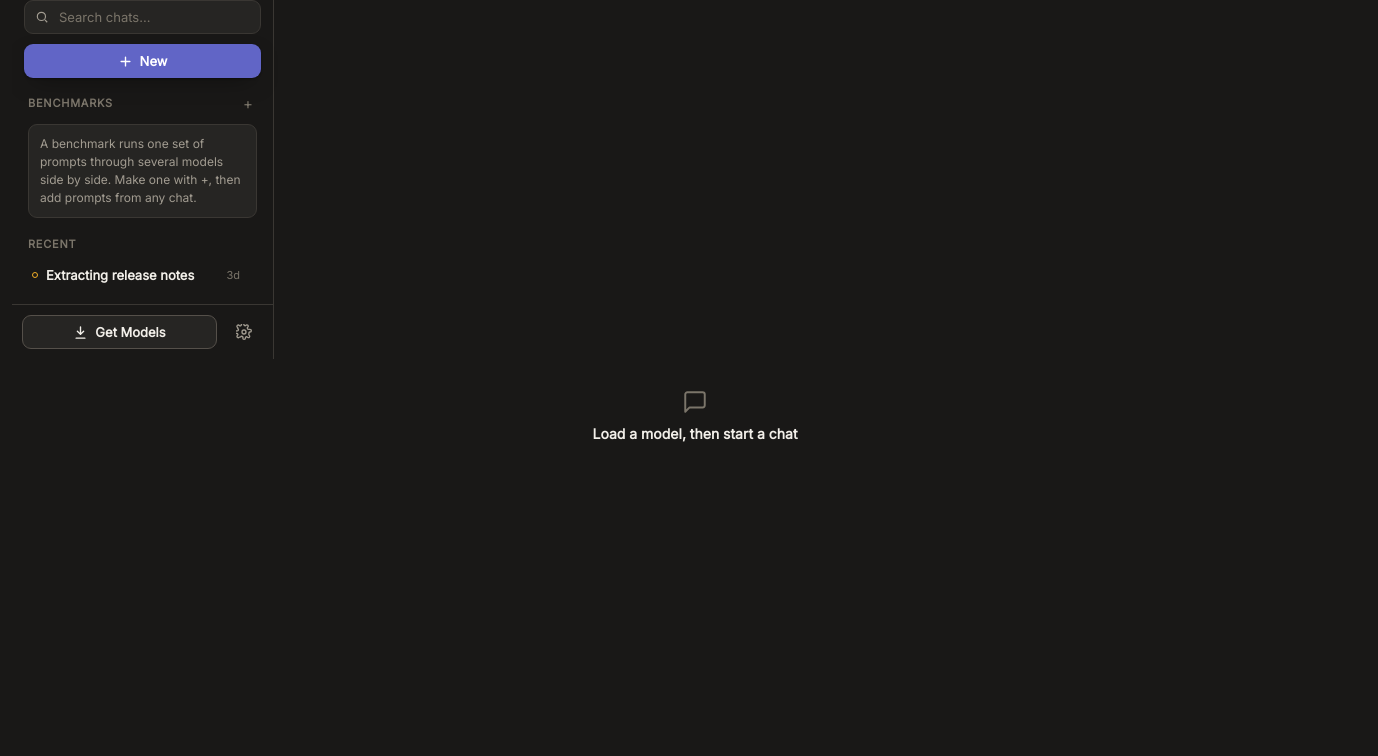
Test: the pane and its pill › opens off, and opens the pane on the starter schema
Click the button "New" at x=142, y=61, box [24,44,261,78]
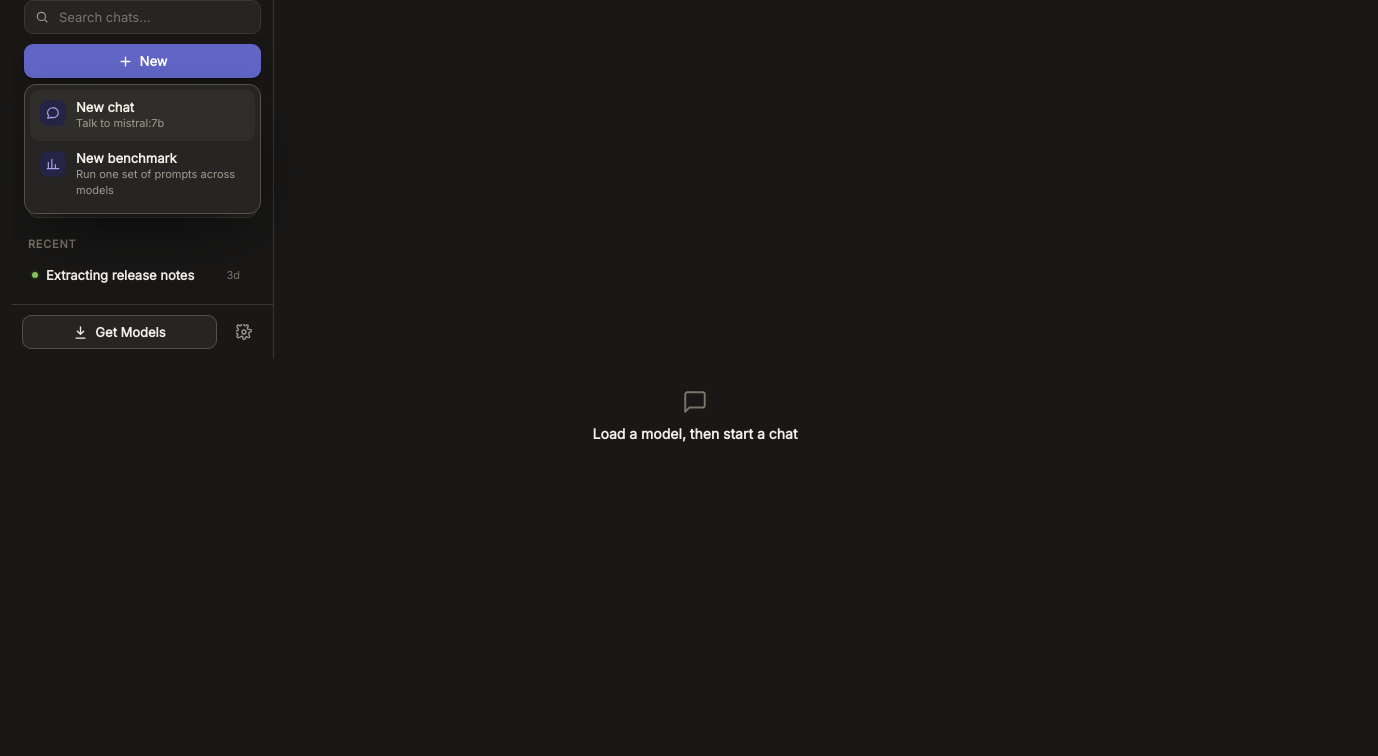
Result: the text "Talk to mistral:7b" is shown at [76,116,164,130]
Click the button "New" at x=142, y=61, box [24,44,261,78]
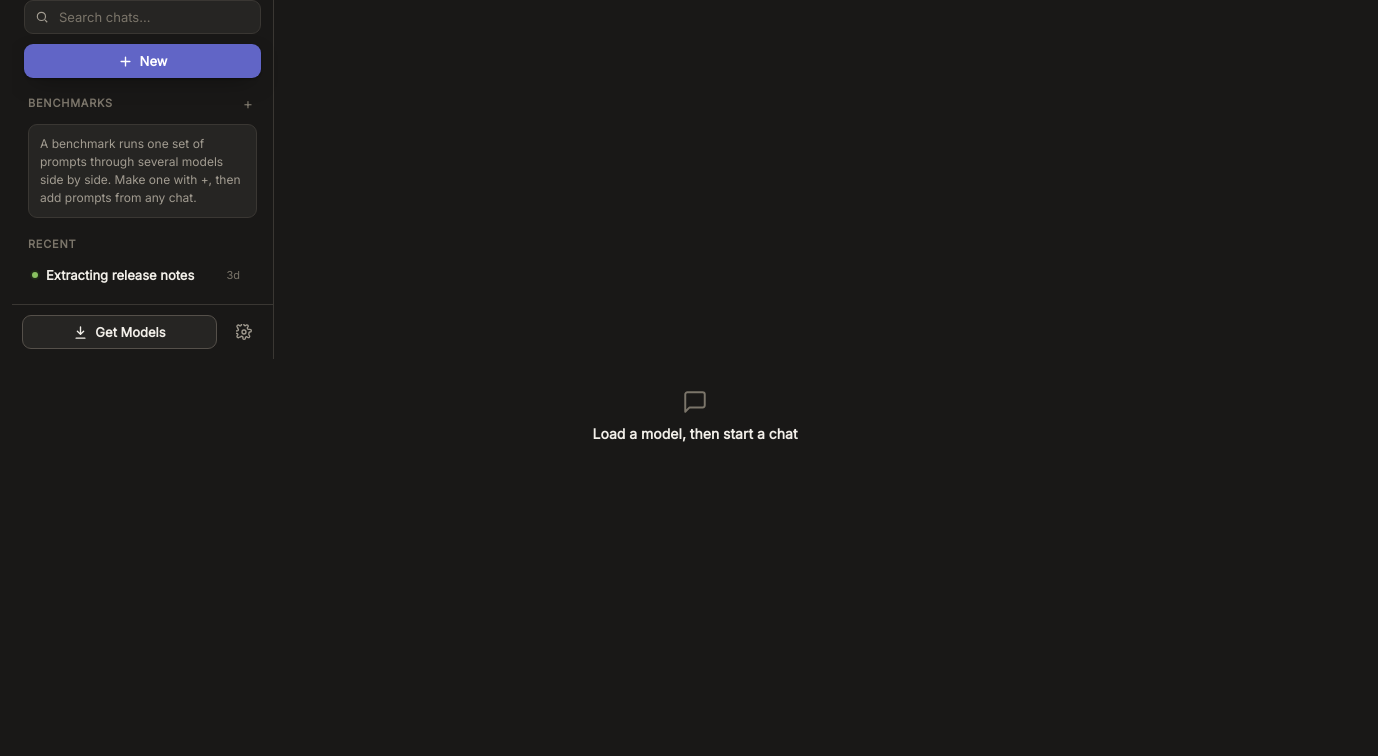
Click the text "Extracting release notes" at x=132, y=275, box [46,266,218,285]
(page scrolled)
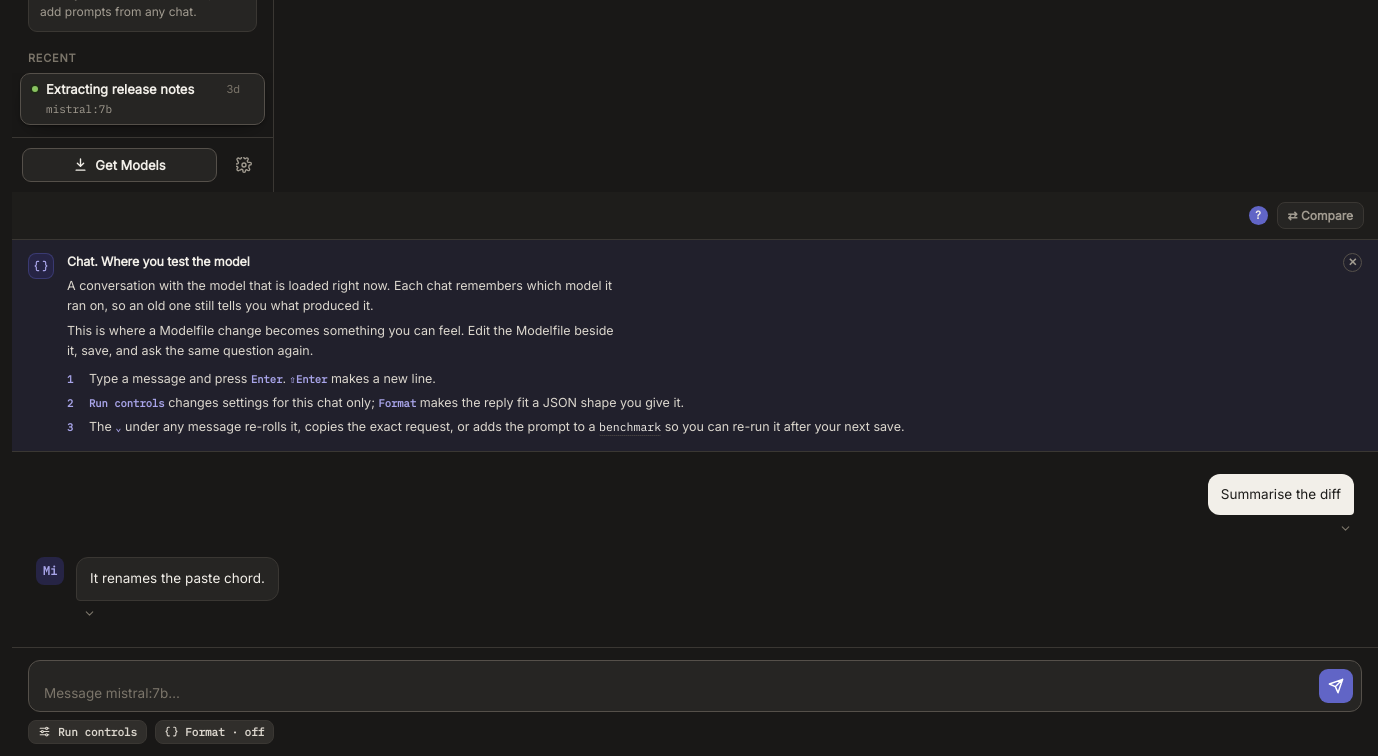
Click the button "Format · off" at x=215, y=732, box [155,720,274,744]
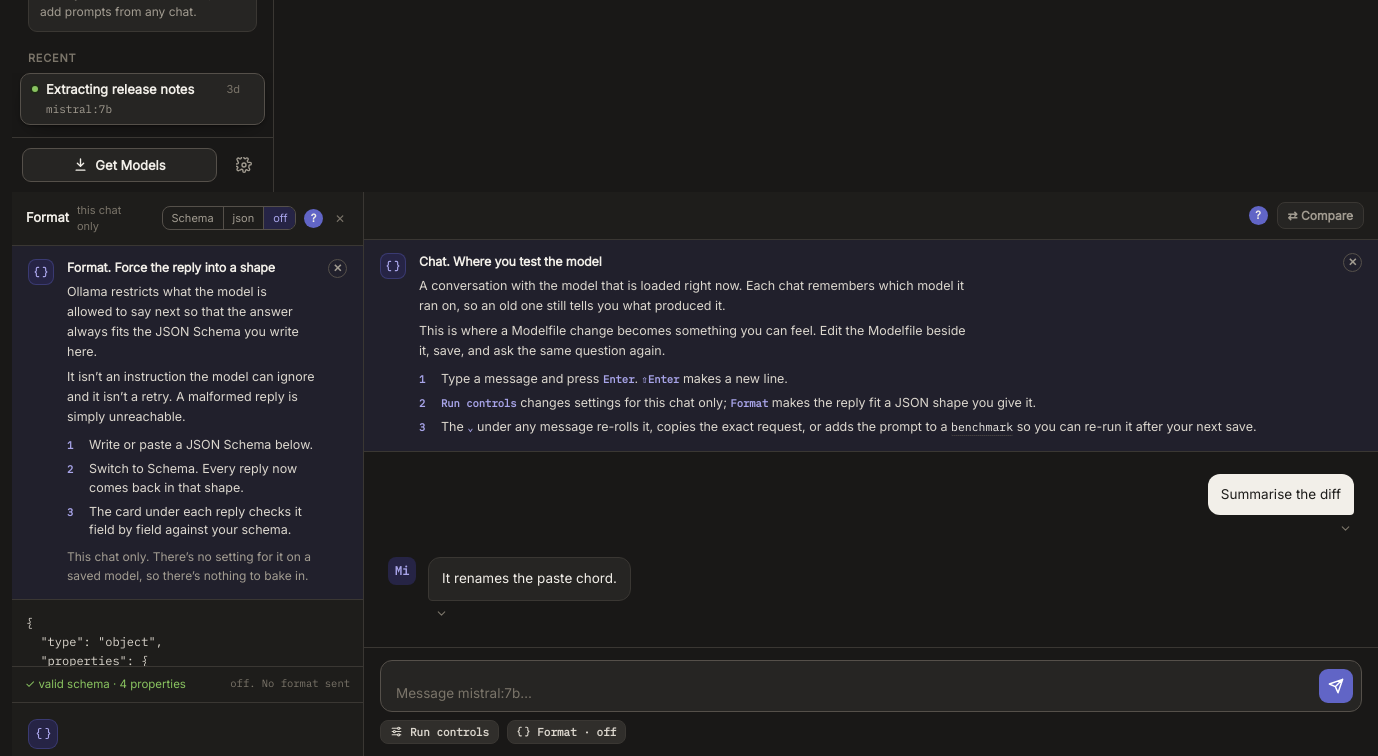
Result: the text box named "Response schema" holds "{   \"type\": \"object\",   \"properties\": {     \"summary\": { \"type\": \"string\" },     \"breaking\": { \"type\": \"boolean\" },     \"issues\": {       \"type\": \"array\",      " at [12,600,363,666]
Result: the text "✓ valid schema · 4 properties" is shown at [25,676,186,693]
Result: the text "this chat only" is shown at [77,202,121,233]
